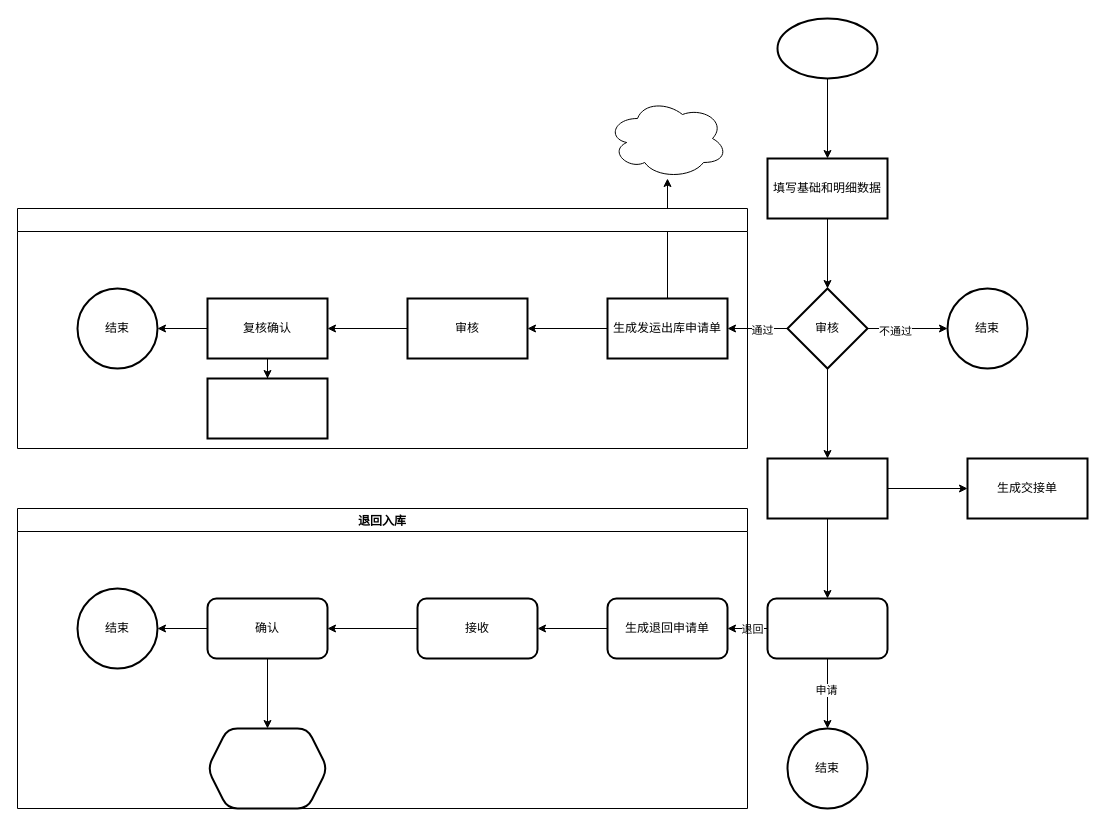
Some shapes in this 1106 by 826 pixel diagram are drawn without their labels. The box of each missing label's shape, as (x1, y1, x2, y2) in pixels:
下单: (776, 17, 878, 79)
出入库记录: (206, 727, 328, 809)
去除预定中库存 减少库存: (206, 377, 328, 439)
发运出库: (16, 208, 748, 448)
确认下单: (766, 457, 888, 519)
确认接收: (766, 597, 888, 659)
编辑补充货位号，有编号药编号 锁定库存: (606, 98, 728, 178)
